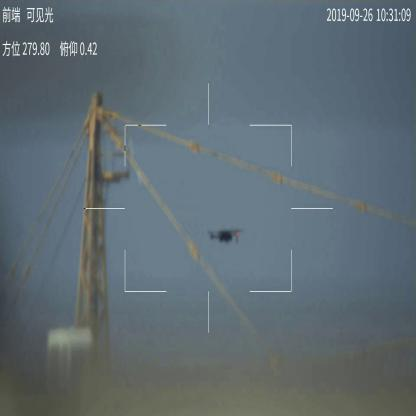uav: (204, 226, 244, 243)
